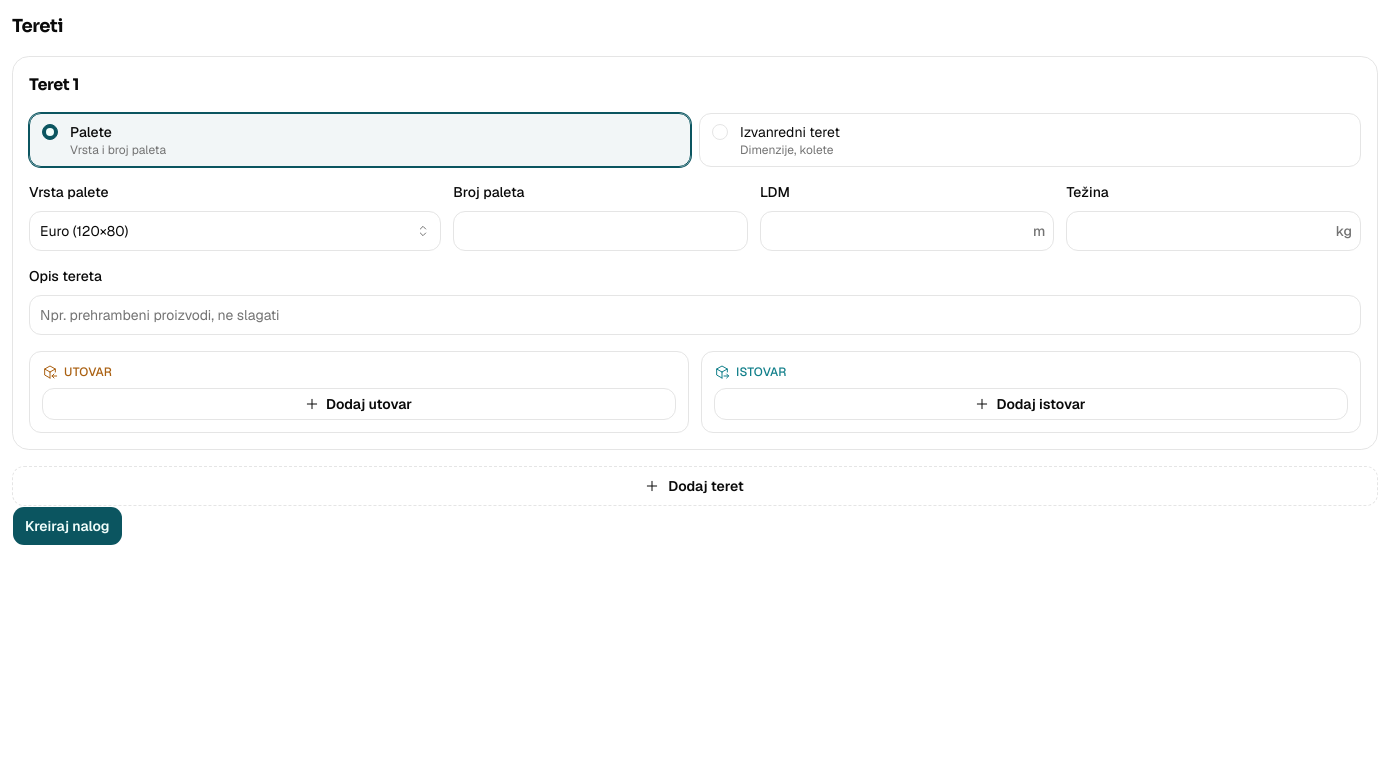
Test: CargoCard › cargo type › Kolete: ticking shows the count (1), unticking hides it
Click the radio button named "Izvanredni teret" next to "Izvanredni teret": (720, 132) [712,124,728,140]
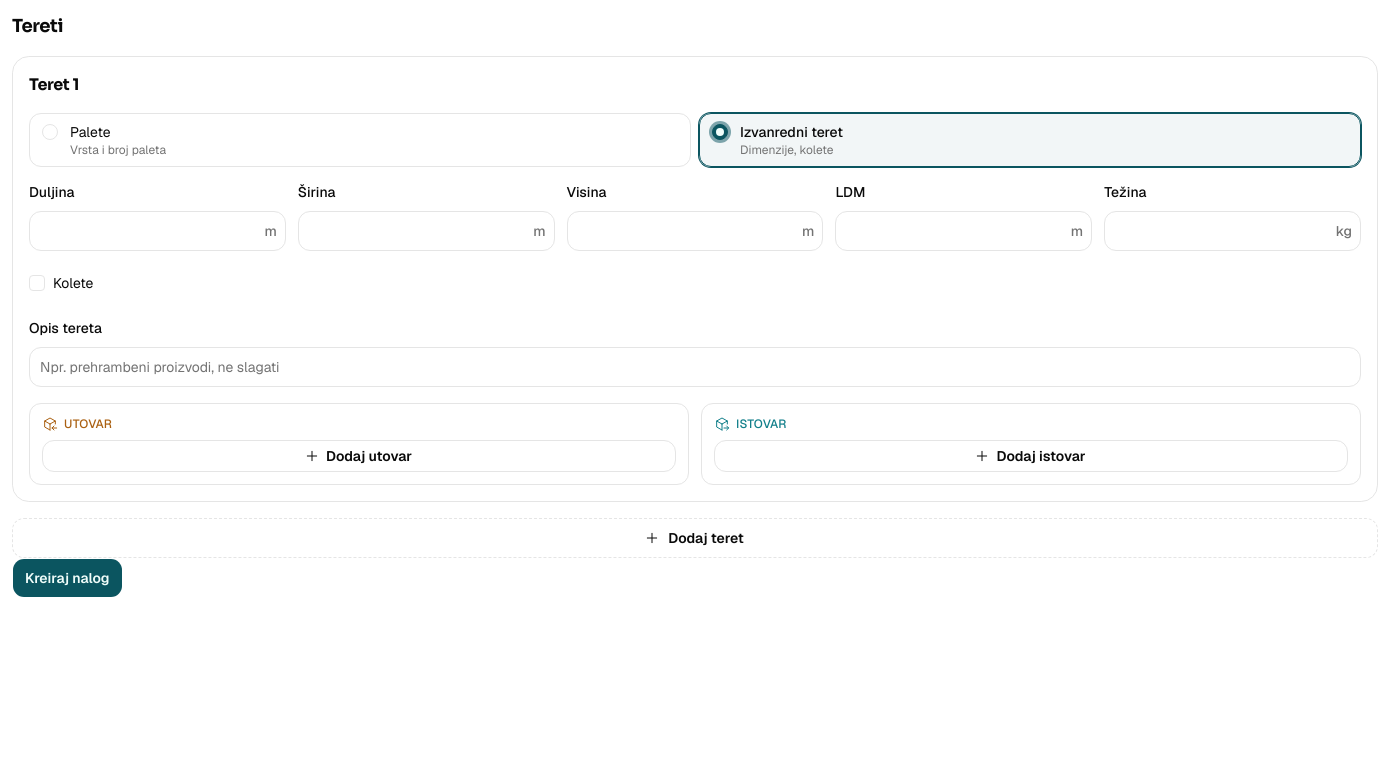
Click the checkbox named "Kolete": (37, 283) [29,275,45,291]
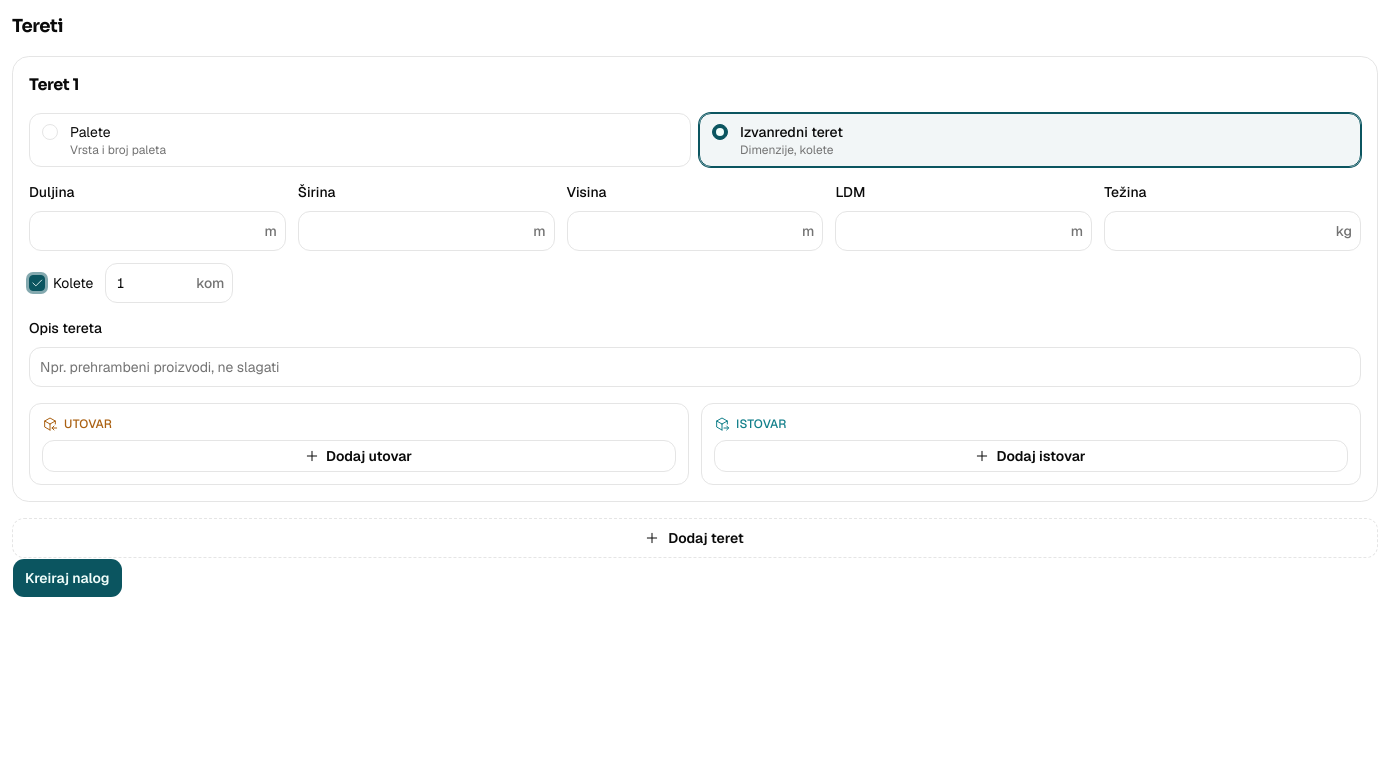
Expected: the checkbox named "Kolete" is checked, [29,275,45,291]
Expected: the text "kom" is shown, [196,273,224,293]
Replace the text in the 6th field with "0": (151, 283) [106,263,196,303]
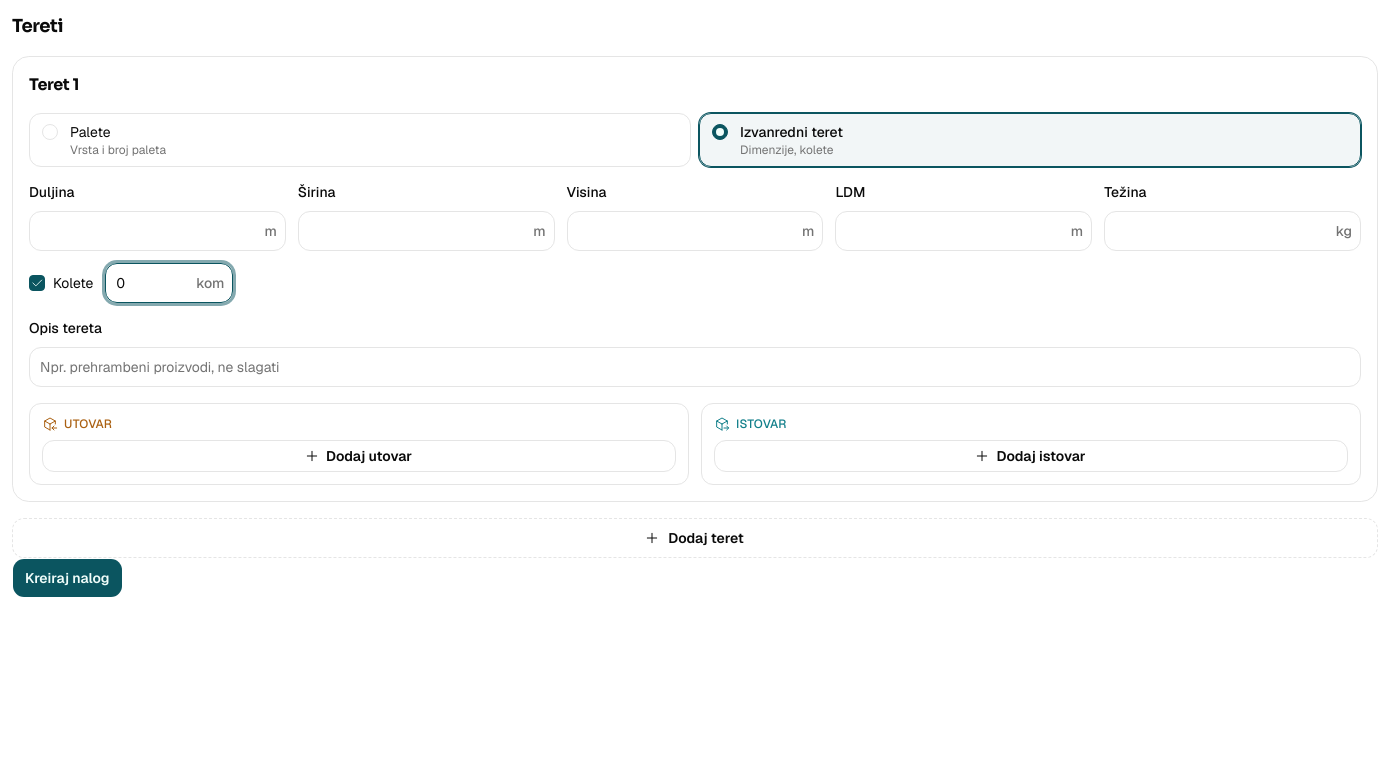
Press Tab
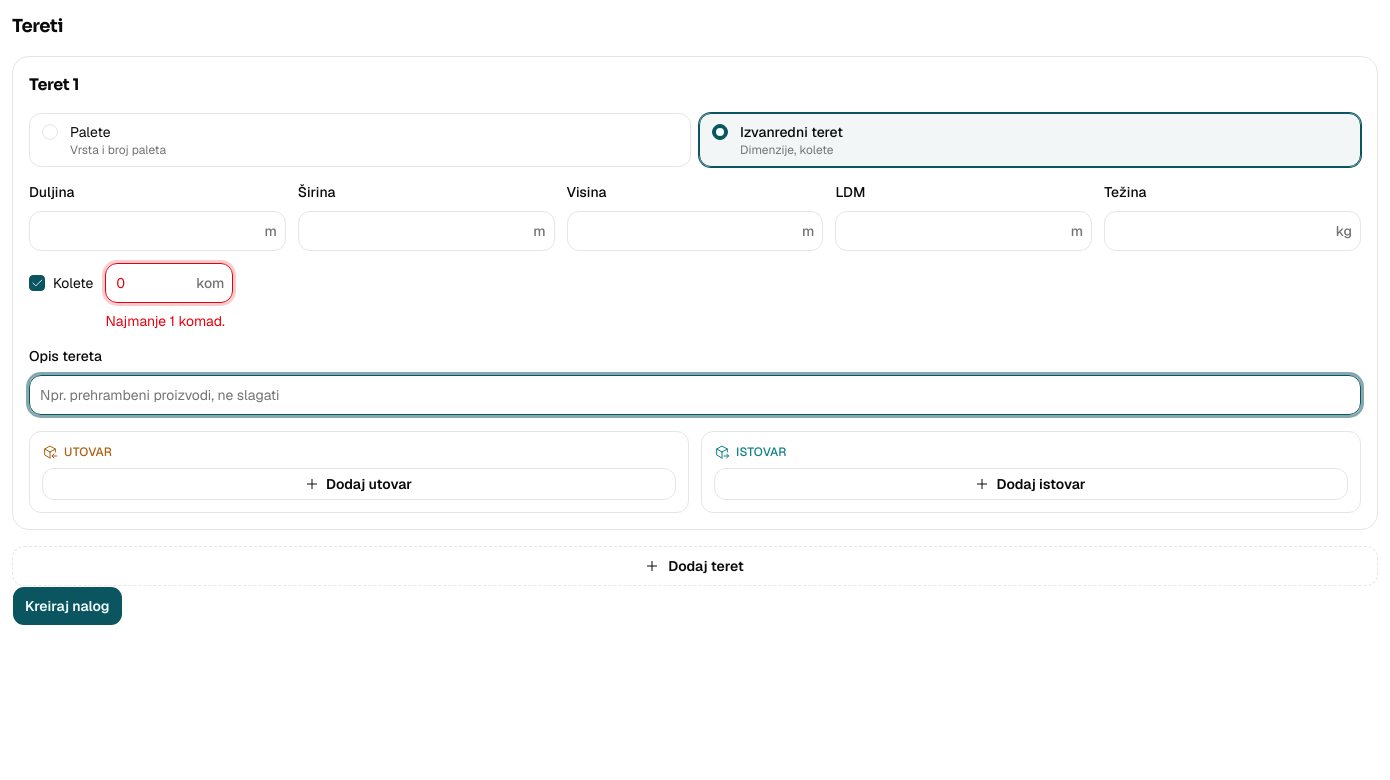
Click the checkbox named "Kolete": (37, 283) [29,275,45,291]
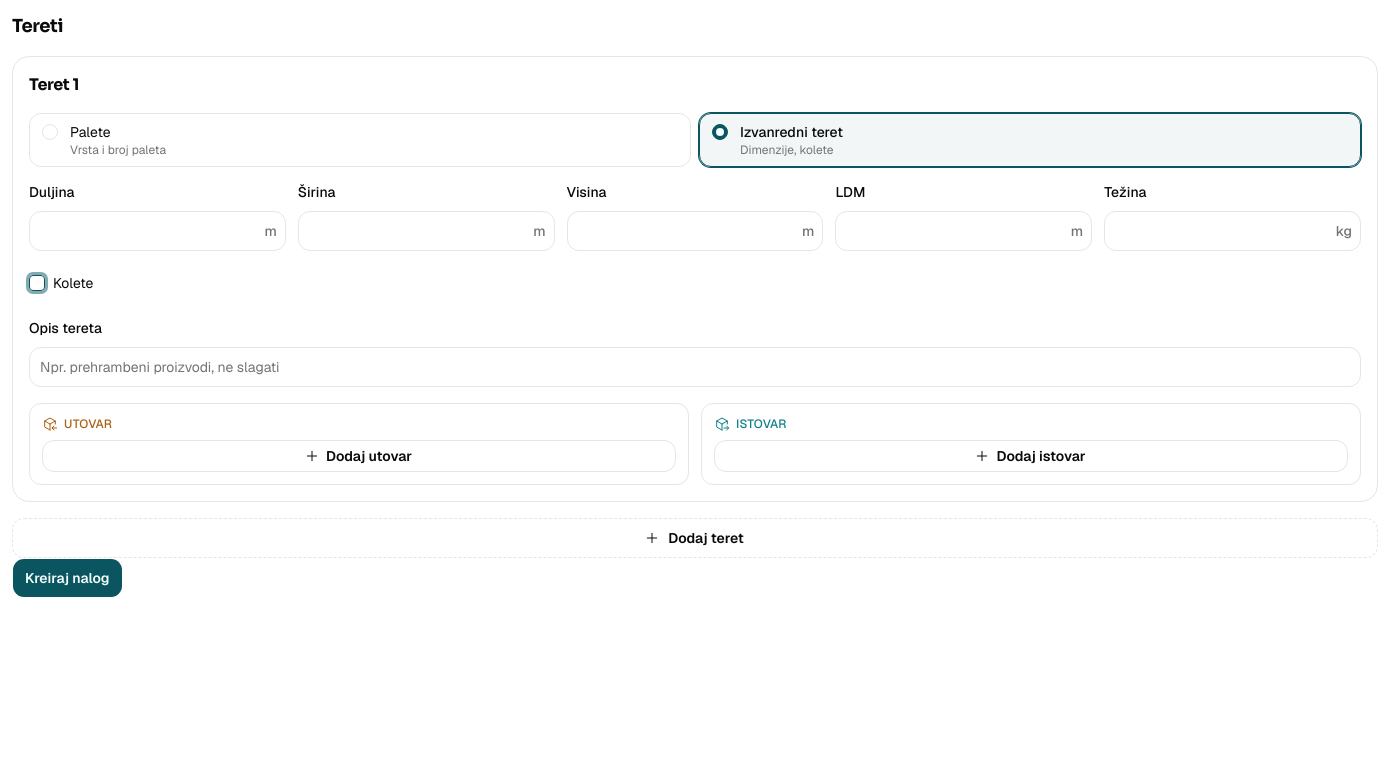
Expected: the checkbox named "Kolete" is not checked, [29,275,45,291]
